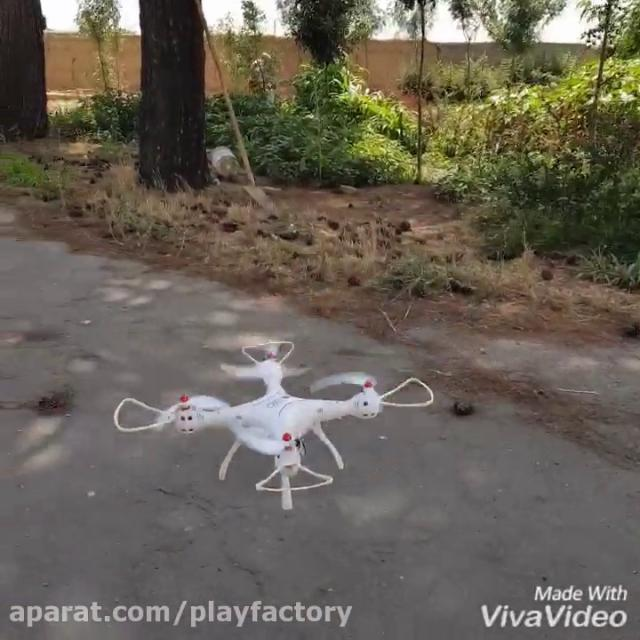drone: (110, 340, 436, 510)
